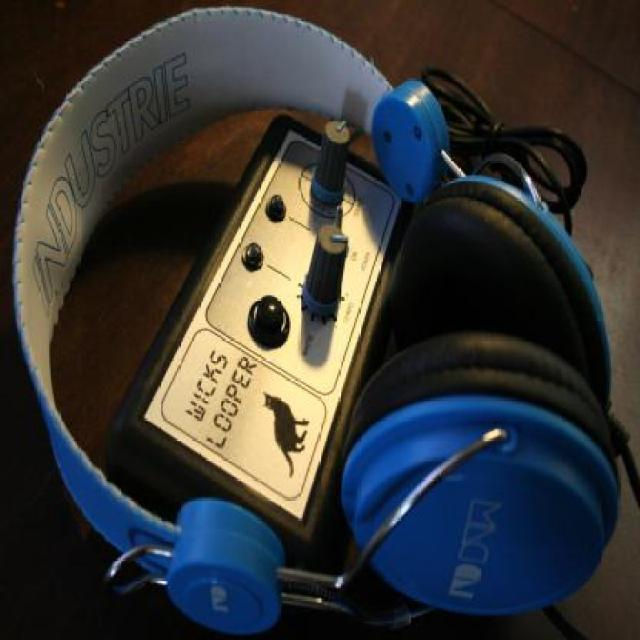earphone: (8, 19, 625, 624)
